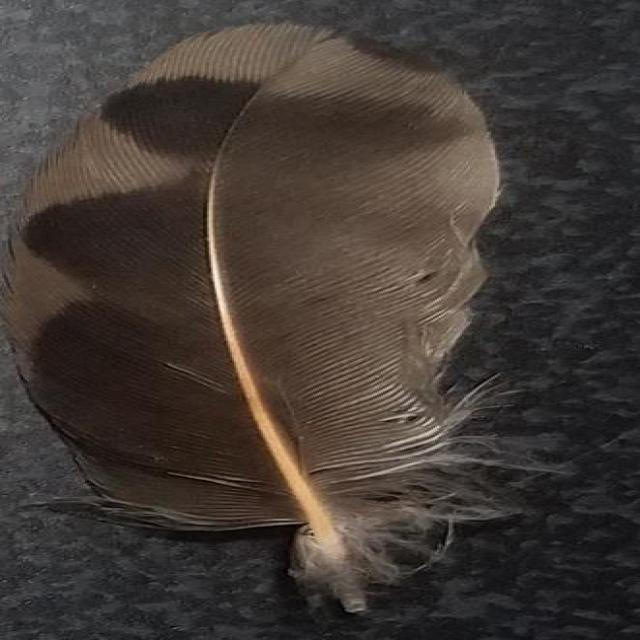feather: (0, 24, 572, 612)
